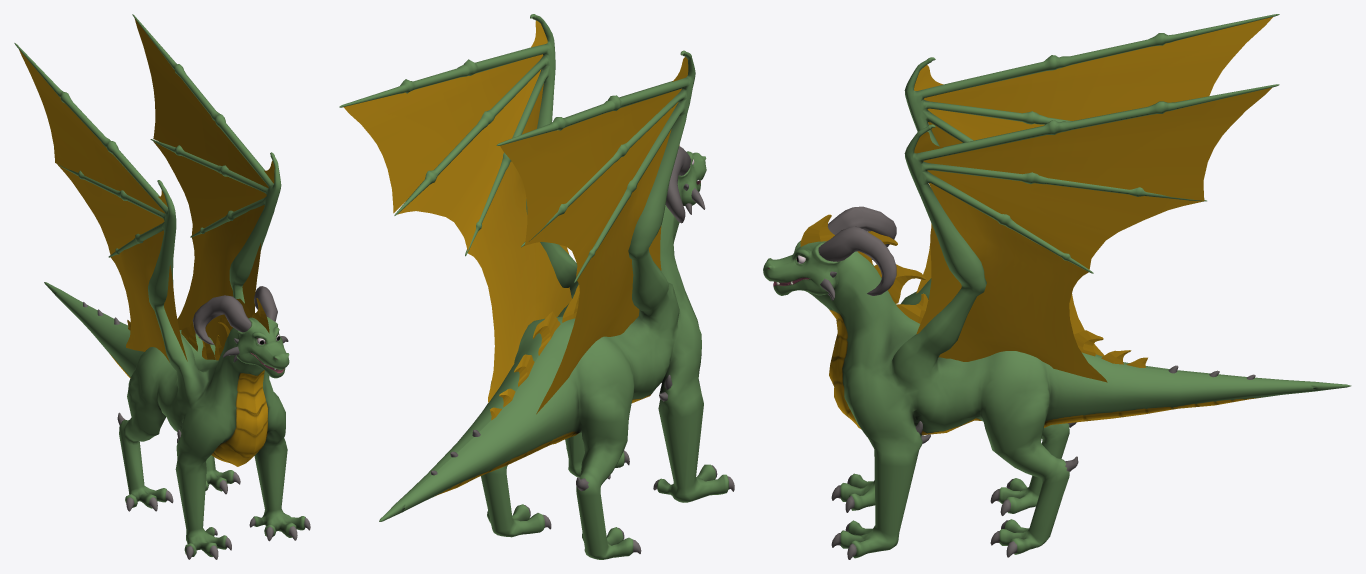
File: Adult_Dragon_LP.fbx
The picture shows the model from 3 angles, left to right: view 1: azimuth 30°, elevation 25°; view 2: azimuth 150°, elevation 25°; view 3: azimuth 270°, elevation 25°; orthographic projection. The views are drawn at different scales.
Visible parts, largest first — view 1: LP_Adult_Dragon_Body, LP_Adult_Dragon_Wing_Membrane, LP_Adult_Dragon_Horns; view 2: LP_Adult_Dragon_Body, LP_Adult_Dragon_Wing_Membrane, LP_Adult_Dragon_Horns, LP_Adult_Dragon_Back_Fin_07; view 3: LP_Adult_Dragon_Body, LP_Adult_Dragon_Wing_Membrane, LP_Adult_Dragon_Horns.
Part boxes in pixels (x1=…): LP_Adult_Dragon_Body: x1=14, y1=14, x2=310, y2=559; LP_Adult_Dragon_Wing_Membrane: x1=19, y1=18, x2=274, y2=362; LP_Adult_Dragon_Horns: x1=192, y1=286, x2=277, y2=344; LP_Adult_Dragon_Body: x1=339, y1=14, x2=734, y2=559; LP_Adult_Dragon_Wing_Membrane: x1=343, y1=20, x2=688, y2=414; LP_Adult_Dragon_Horns: x1=665, y1=146, x2=690, y2=223; LP_Adult_Dragon_Back_Fin_07: x1=532, y1=311, x2=560, y2=355; LP_Adult_Dragon_Body: x1=763, y1=14, x2=1351, y2=559; LP_Adult_Dragon_Wing_Membrane: x1=914, y1=17, x2=1272, y2=382; LP_Adult_Dragon_Horns: x1=818, y1=206, x2=896, y2=295.
Size of the model in its own units: 9.79 by 29.56 by 33.15.
